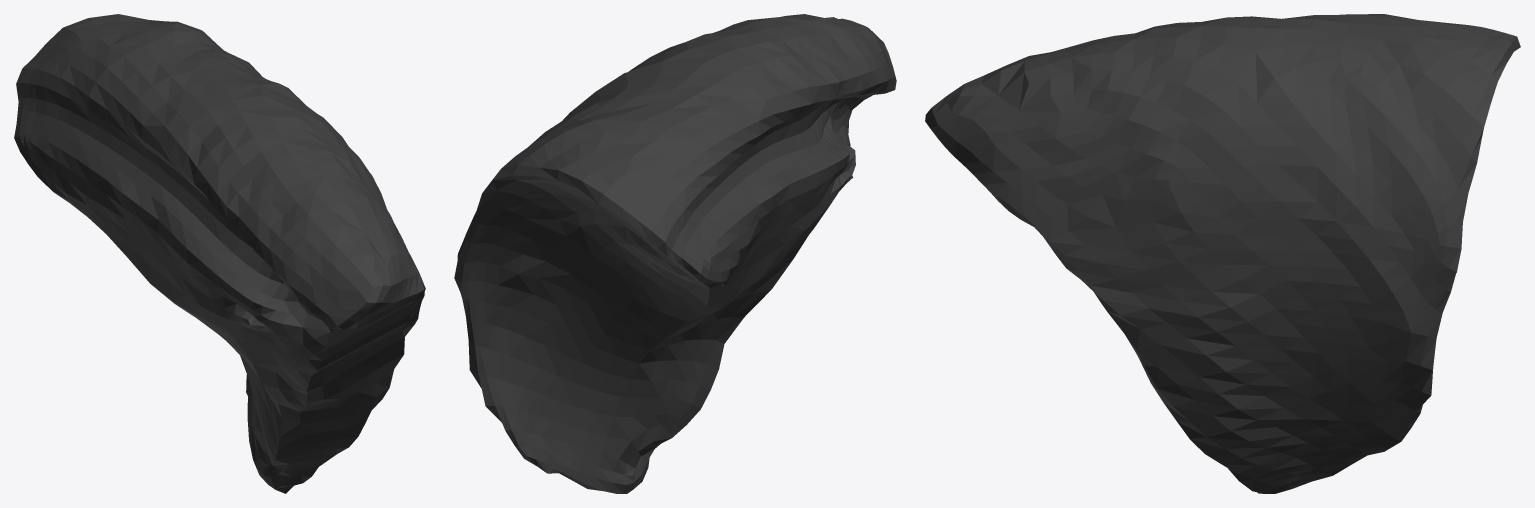
File: Caudal.glb
3 views of the same model, side by side, from view 1: azimuth 30°, elevation 25°; view 2: azimuth 150°, elevation 25°; view 3: azimuth 270°, elevation 25° (orthographic). The views are drawn at different scales.
Visible parts, largest first — view 1: Caudal; view 2: Caudal; view 3: Caudal.
Boxes of the visible parts, left/top/right/bottom form: Caudal: left=14, top=14, right=425, bottom=493; Caudal: left=454, top=14, right=896, bottom=493; Caudal: left=925, top=14, right=1520, bottom=493.
Size of the model in its own units: 87.72 by 142 by 177.
Materials: 1 (1 with a texture image).
